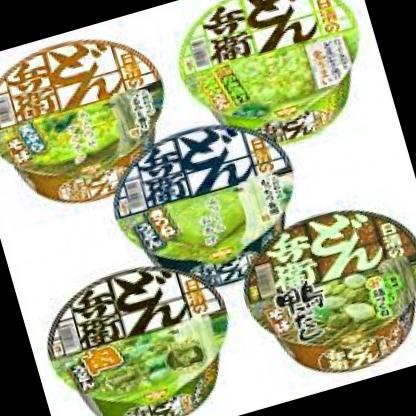Ramen: (105, 105, 316, 301), (0, 15, 192, 225), (27, 240, 252, 416), (163, 0, 389, 170), (238, 194, 416, 391)
